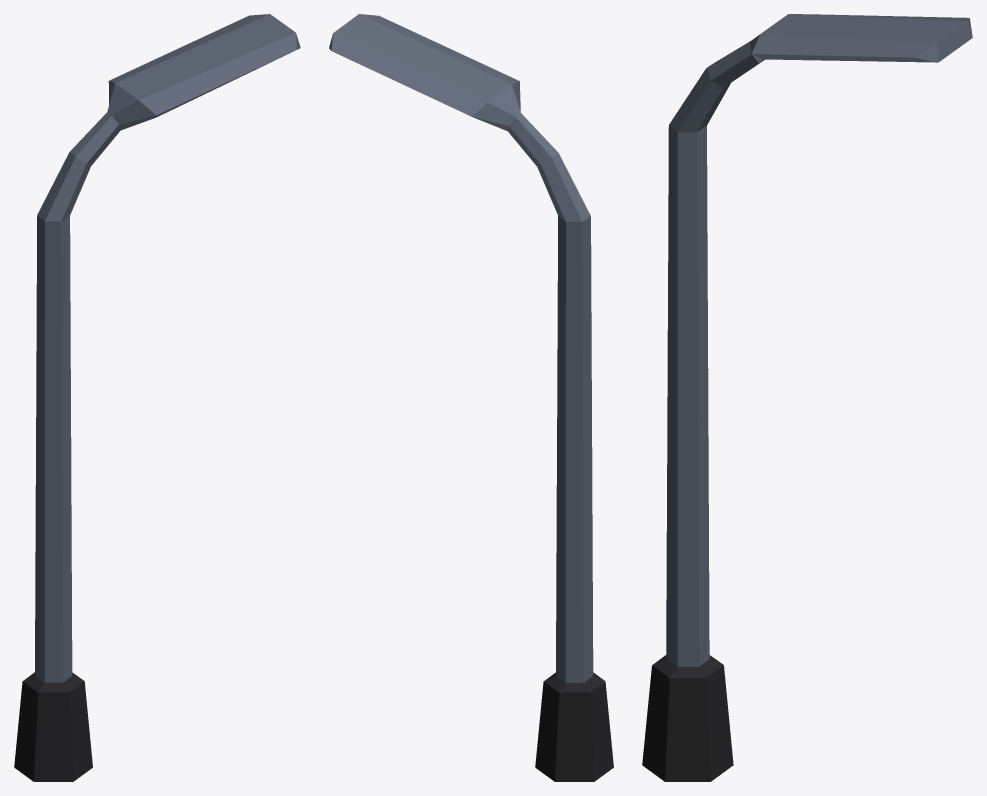
Rendered from Lantern 1.fbx.
3 views of the same model, side by side, from view 1: azimuth 30°, elevation 25°; view 2: azimuth 150°, elevation 25°; view 3: azimuth 330°, elevation 25° (orthographic). The views are drawn at different scales.
Parts seen in each view (by area): view 1: Lantern_01; view 2: Lantern_01; view 3: Lantern_01.
Boxes of the visible parts, <box> form: Lantern_01: <box>14,14,300,781</box>; Lantern_01: <box>329,14,613,781</box>; Lantern_01: <box>642,14,972,781</box>.
Bounding box in the file's own units: 82.27 × 207 × 26.09.
